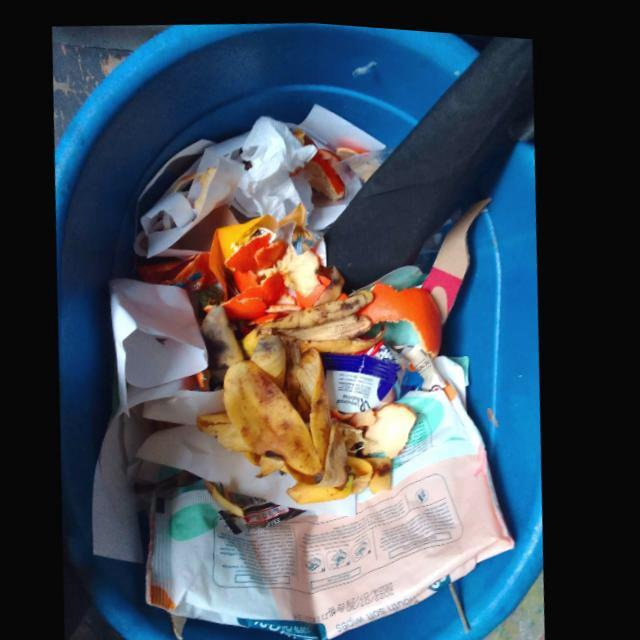cardboard: (425, 190, 498, 320)
food_wrapper: (212, 198, 310, 294), (325, 346, 404, 407), (141, 247, 223, 288)
paper: (326, 29, 536, 283), (141, 421, 363, 511), (103, 373, 203, 521), (113, 276, 212, 415), (142, 142, 247, 255), (240, 110, 319, 217), (138, 134, 216, 232), (98, 452, 157, 562), (299, 97, 387, 145), (207, 129, 251, 152)
plastic_bag: (152, 371, 522, 636)
